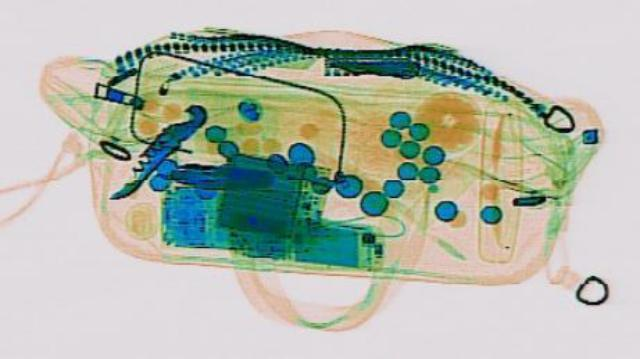Knife: (92, 101, 218, 202)
